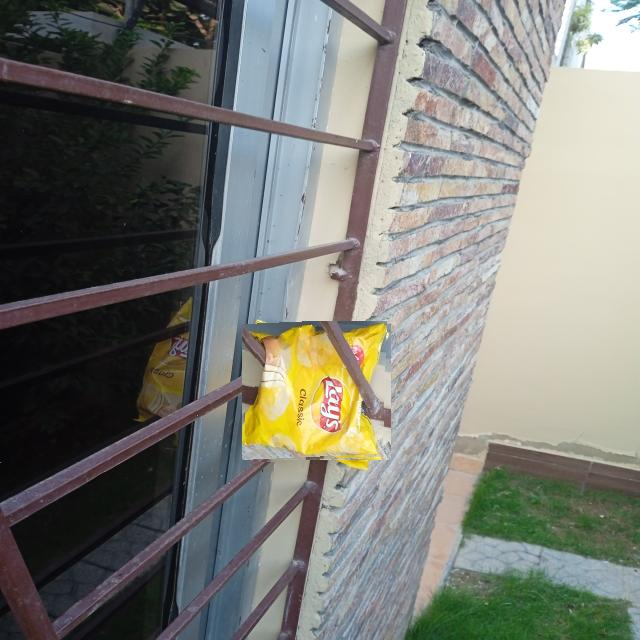Plastic: (245, 321, 387, 463)
